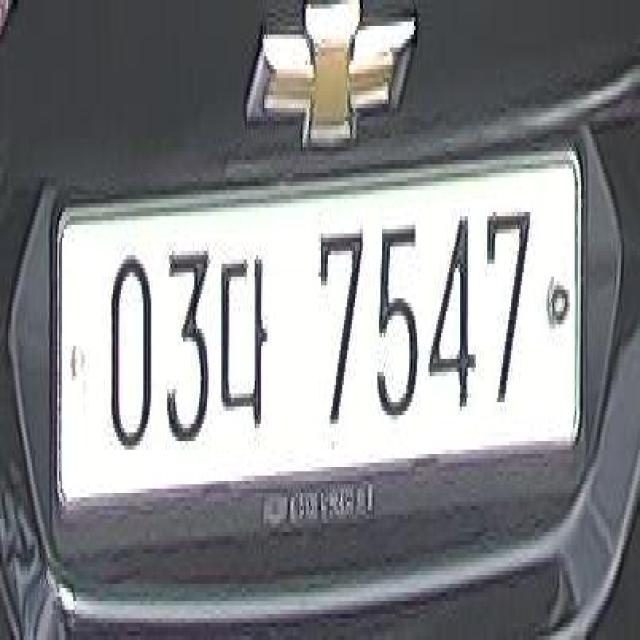illegal_plate: (55, 146, 589, 541)
